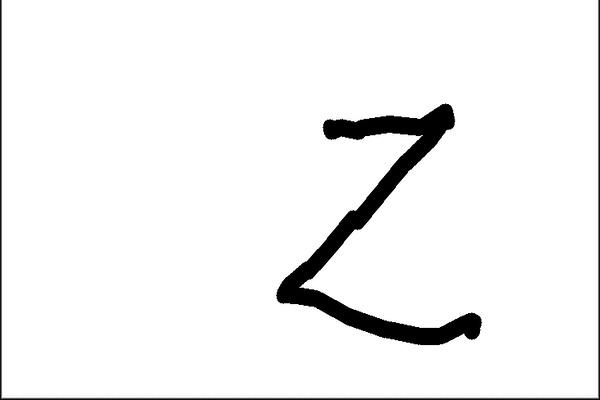Z: (268, 99, 492, 352)
